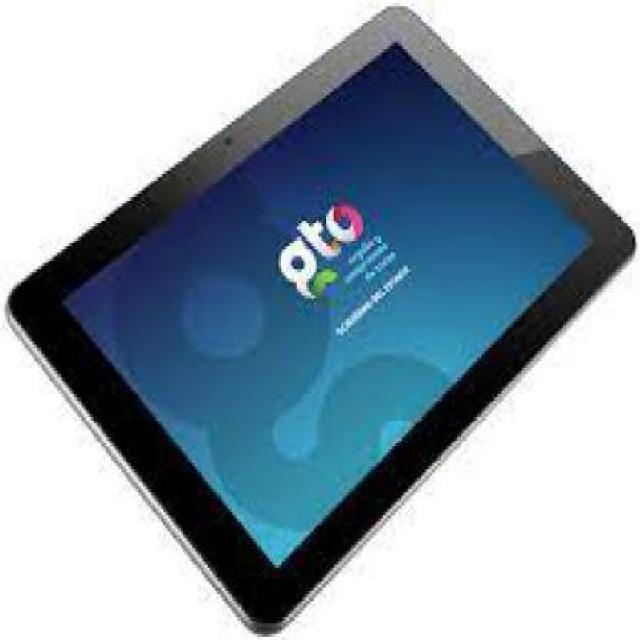tablet: (0, 56, 574, 639)
